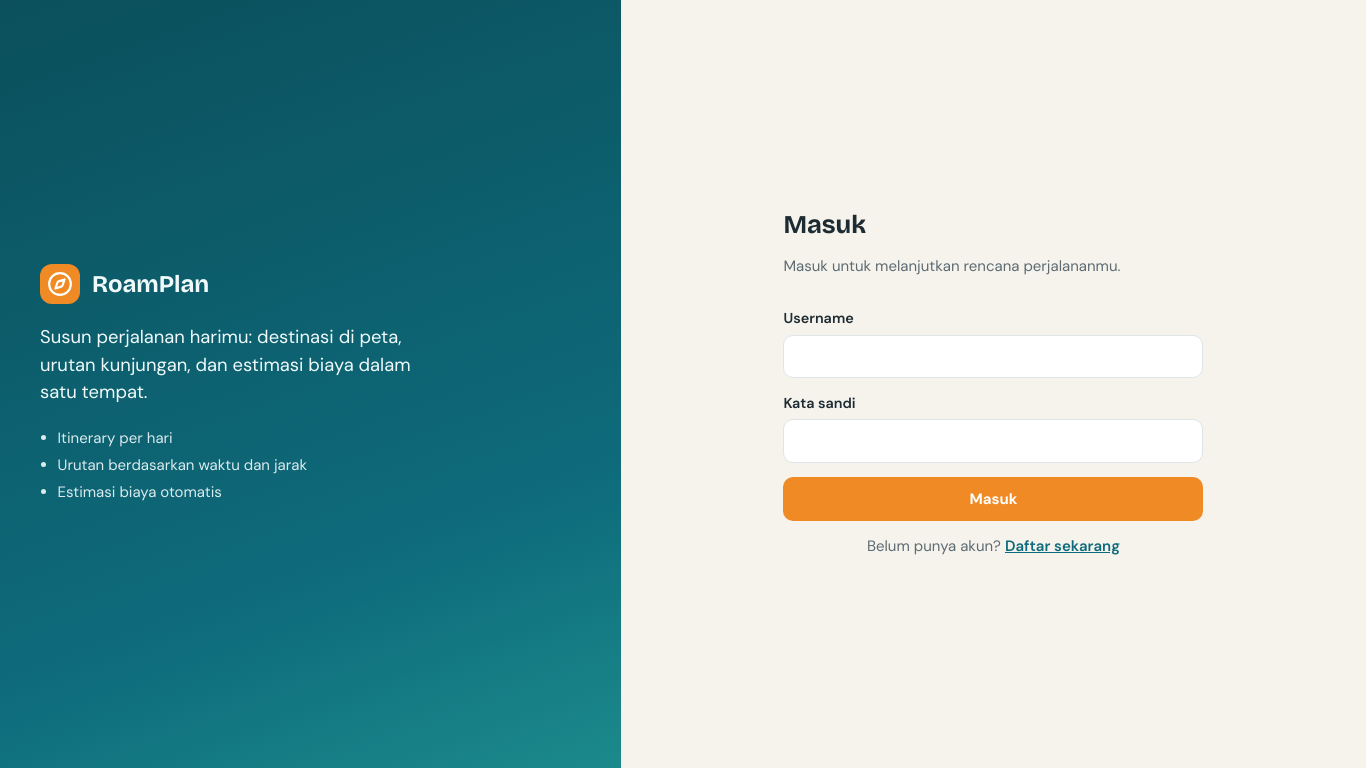
Scenario: halaman masuk (terpisah dari daftar) › menampilkan galat validasi saat form kosong tanpa memanggil API
This screenshot has width=1366, height=768.
Click the button "Masuk" at (993, 499), box [783,477,1203,521]
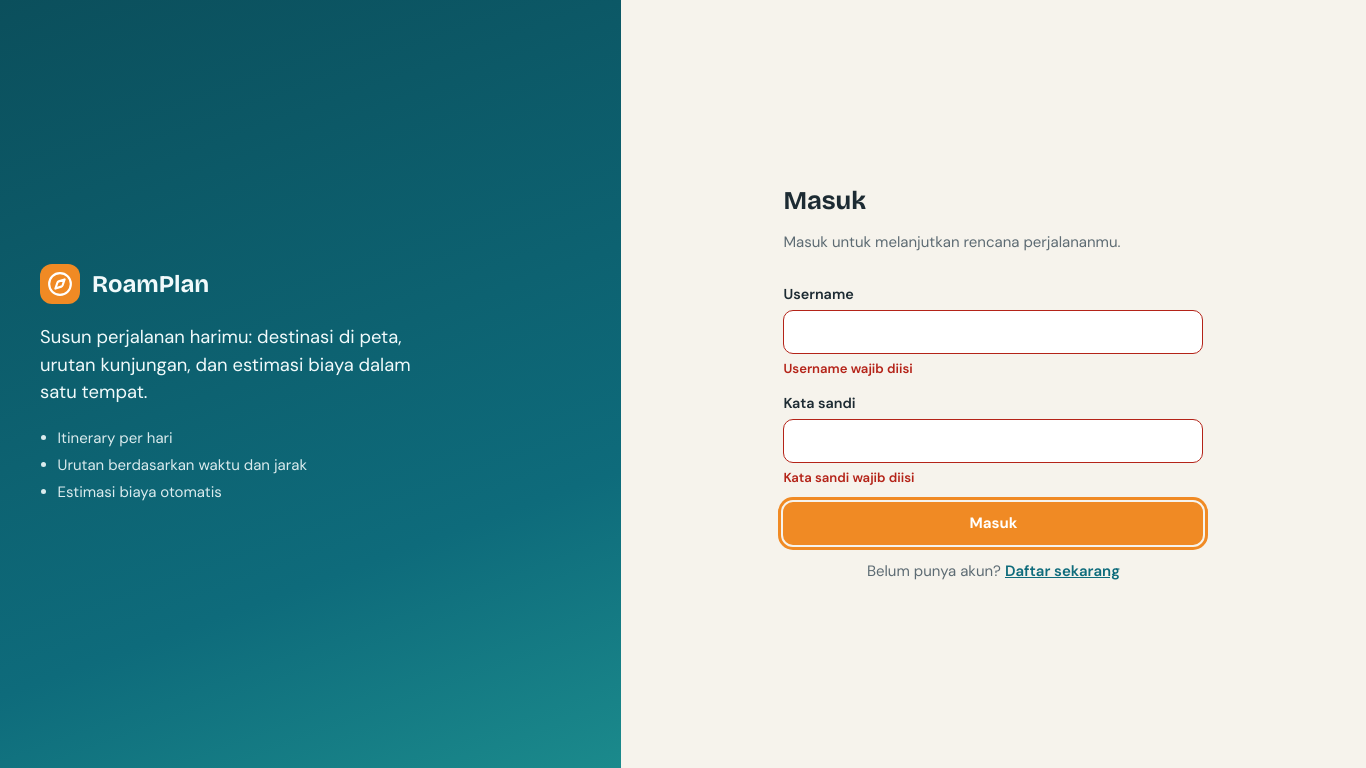
Now the text "Username wajib diisi" is shown, box [783,360,913,377]
Now the text "Kata sandi wajib diisi" is shown, box [783,469,914,486]
